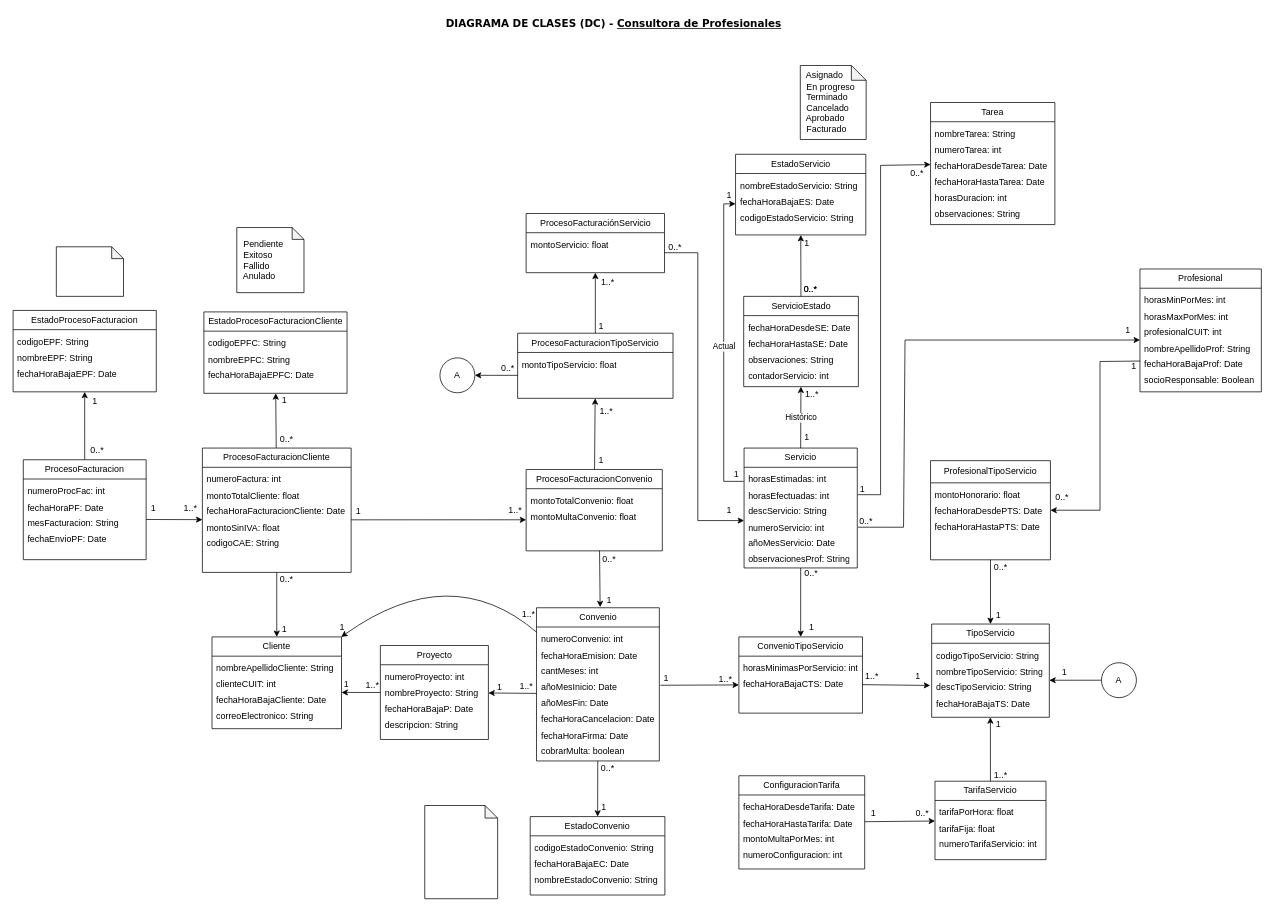
Some shapes in this 1274 by 912 pixel diagram are drawn without their labels. Each missing label, with the centre of its shape:
"Registrado Aceptado Rechazado Firmado Cancelado En progreso Terminado" goes at (461,852).
"Simulado Completo Incompleto" goes at (90,271).
